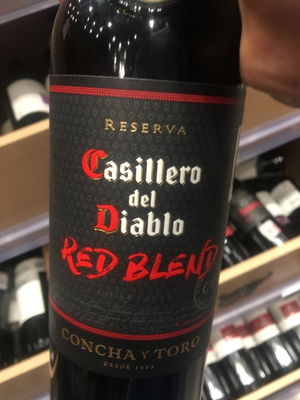casillero del diablo red blend: (39, 5, 239, 400)
